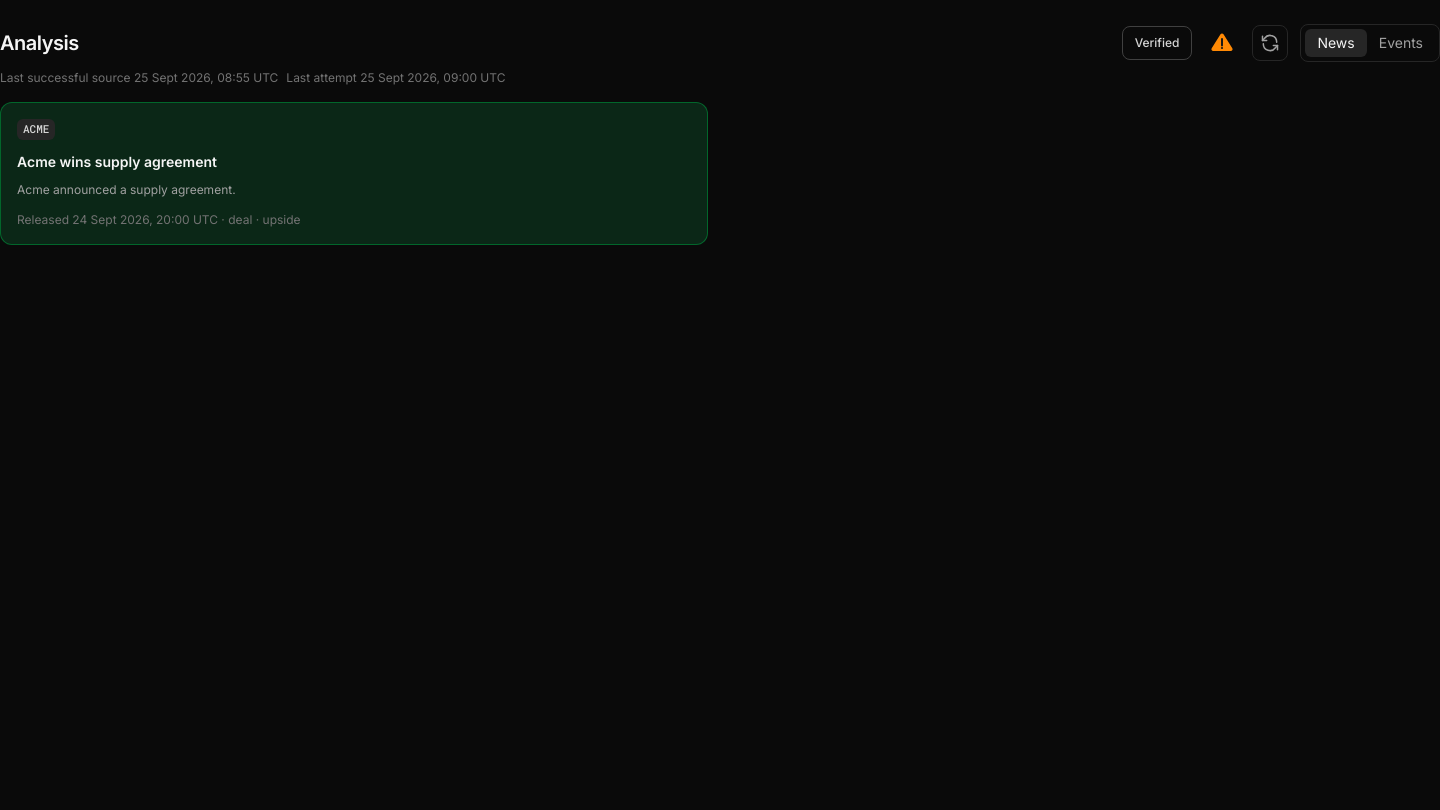
Scenario: NewsSection › shows one card per story, watched symbols, source detail, and partial source status
Expected: the heading "Analysis" is shown, 0,29 -> 79,57
Expected: the number of buttons "Acme wins supply agreement" is 1, 0,102 -> 708,244
Hover over the button named "News collection errors".
mouse_move(1222, 43)  # box 1204,25 -> 1240,61
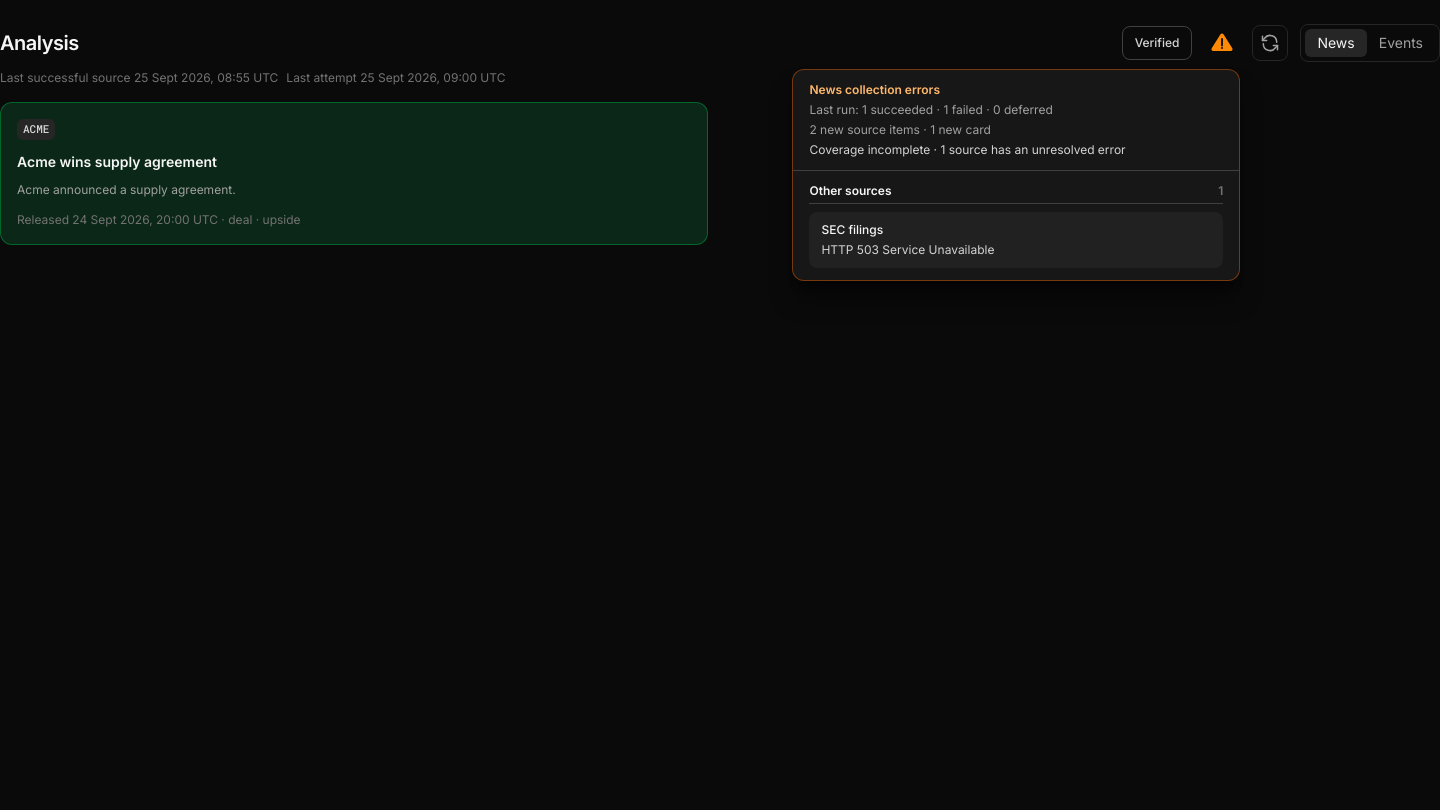
Expected: the dialog "News collection errors" shows "SEC filings", 821,222 -> 883,237
Move the pointer off the element that starts with "News collection errors", box 1204,25 -> 1240,61
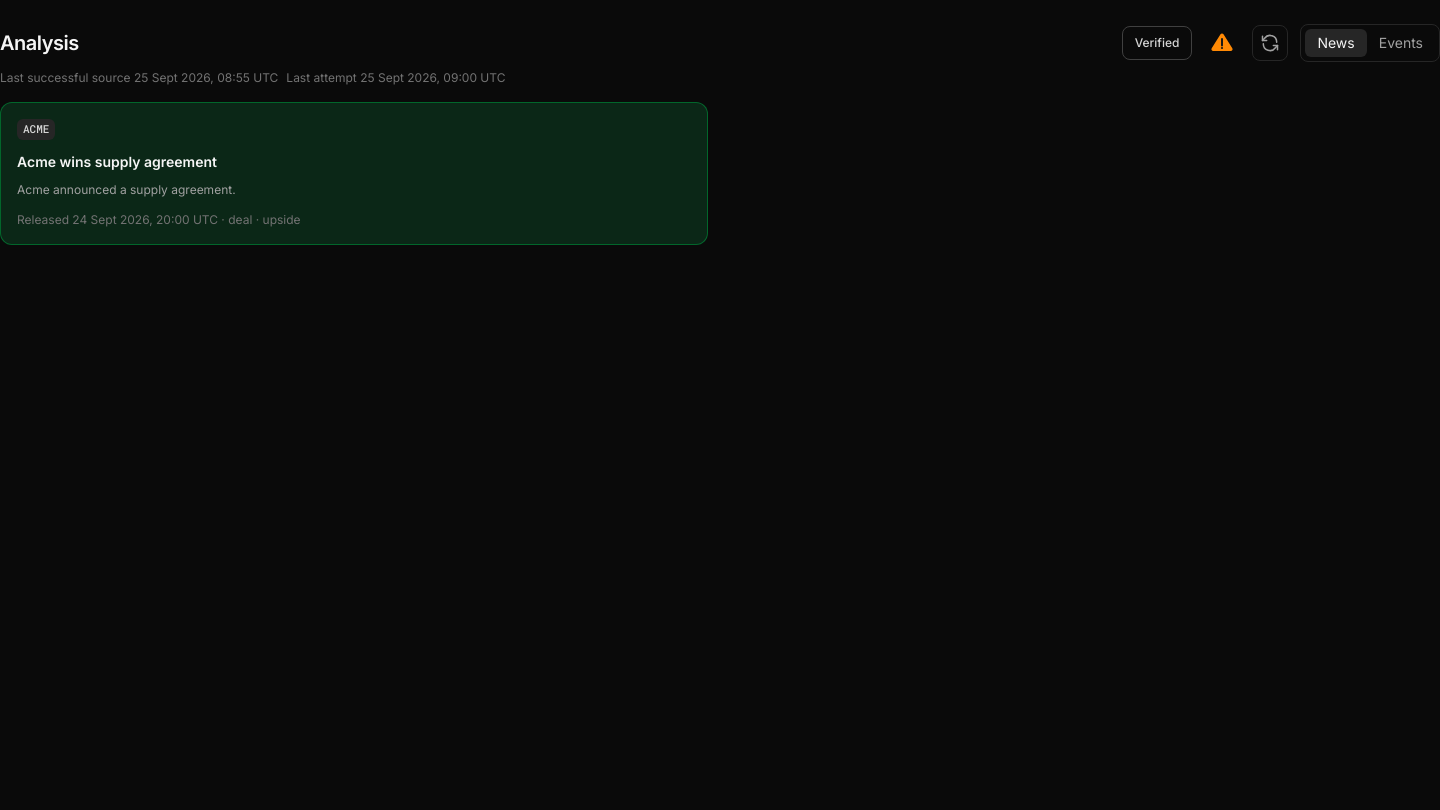
Expected: the text "News collection errors" is gone
Click the button named "News collection errors".
click(1222, 43)  # box 1204,25 -> 1240,61
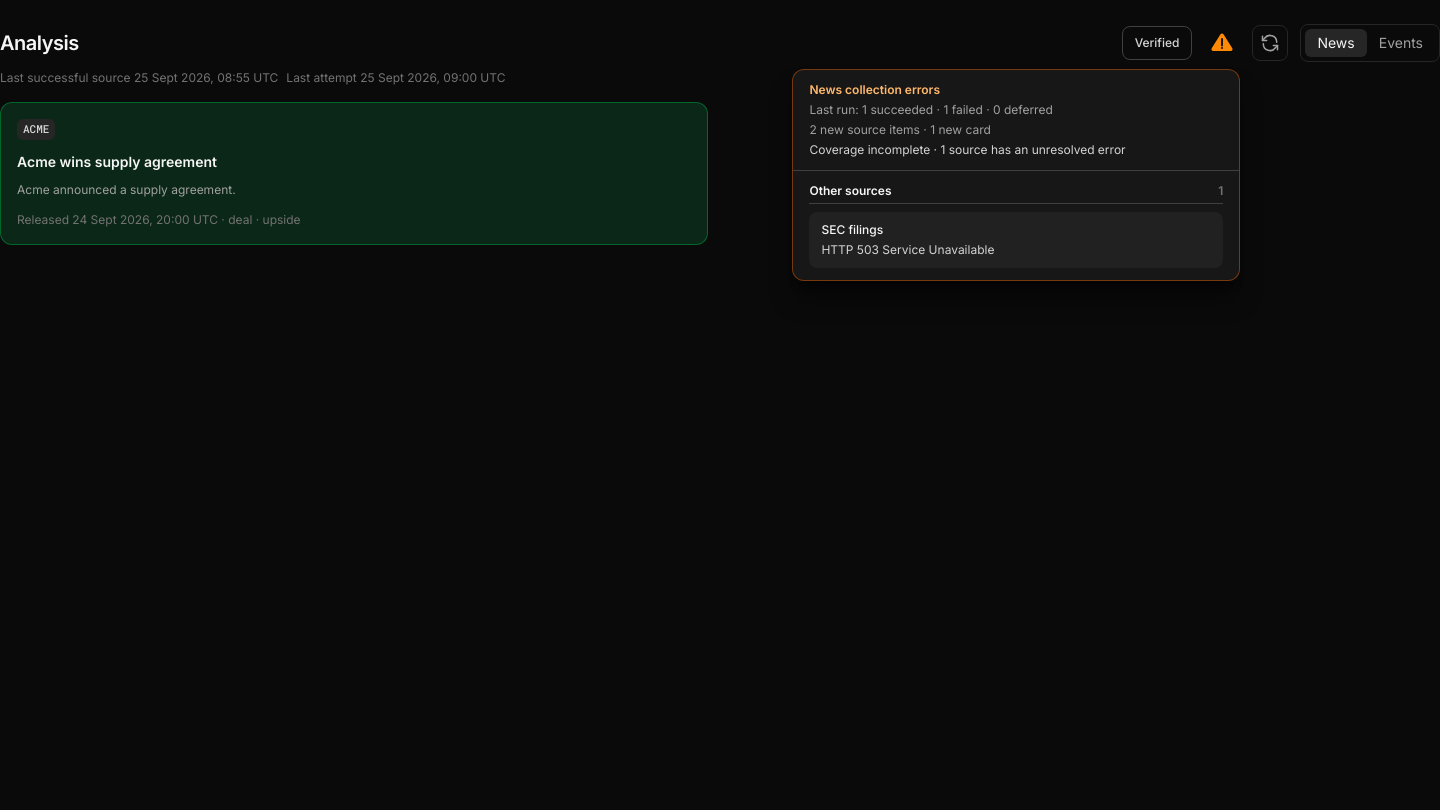
Expected: the text "Coverage incomplete · 1 source has an unresolved error" is shown, 809,142 -> 1126,157
Expected: the text "SEC filings" is shown, 821,222 -> 883,237
Expected: the text "HTTP 503 Service Unavailable" is shown, 821,242 -> 994,257
Move the pointer off the element that starts with "News collection errors", box 1204,25 -> 1240,61
Expected: the dialog "News collection errors" is shown, 792,69 -> 1240,281
Press the mouse on the heading "Analysis" at [39, 43], box 0,29 -> 79,57
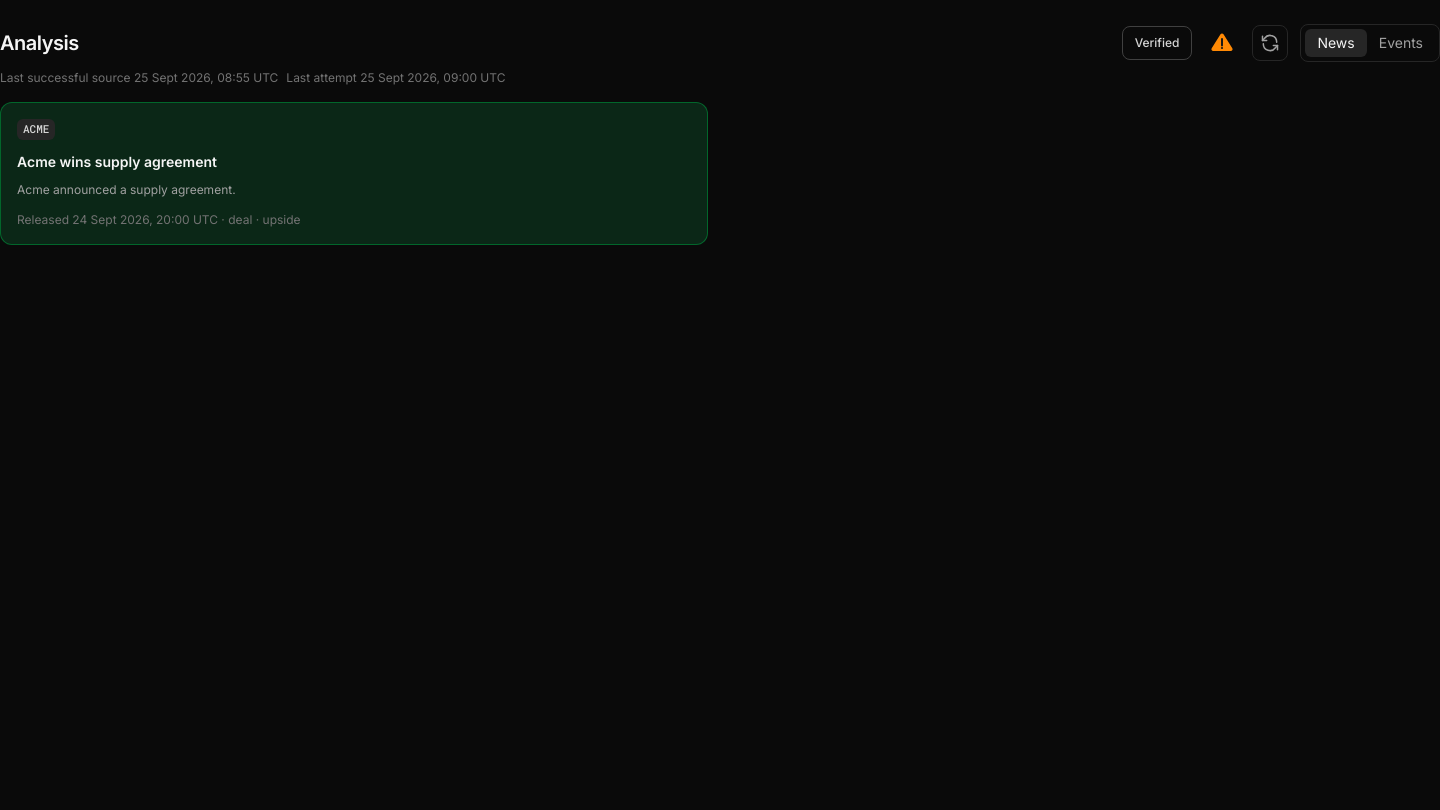
Expected: the text "Last successful source" is shown, 0,70 -> 278,85
Expected: the text "News collection errors" is gone
Expected: the text "Last run: 1 succeeded · 1 failed · 0 deferred" is gone
Click the button "Acme wins supply agreement".
click(36, 129)  # box 0,102 -> 708,244
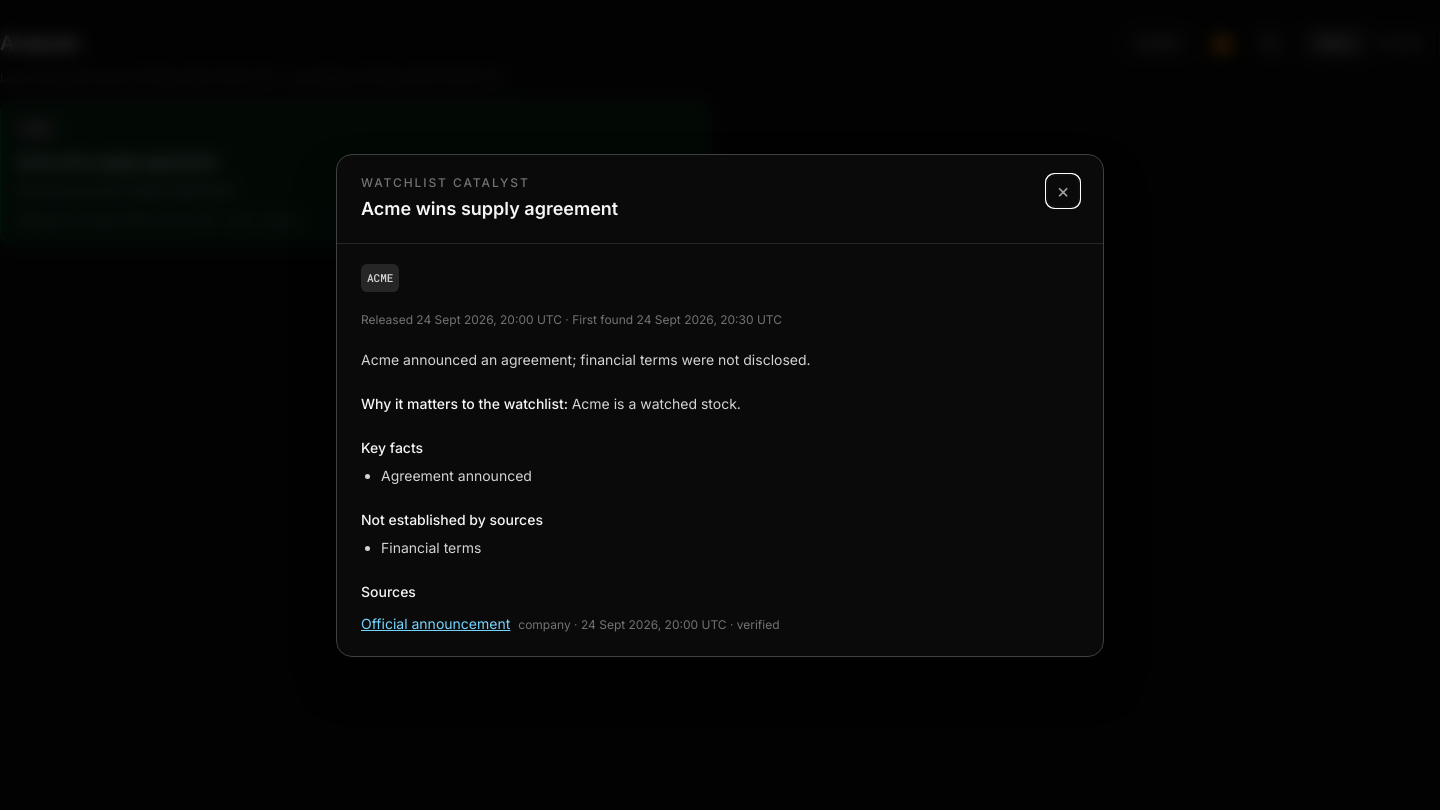
Expected: the text "financial terms were not disclosed" is shown, 361,350 -> 811,368
Expected: the list item "Agreement announced" is shown, 381,466 -> 532,484
